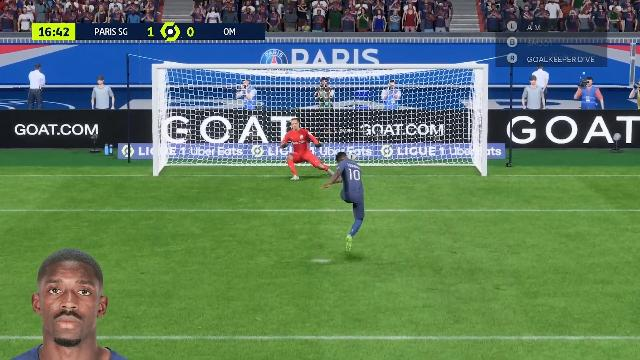goal-bottom-left: (160, 126, 262, 178)
goal-bottom-right: (369, 127, 479, 178)
goal-middle-down: (264, 127, 368, 179)
goal-middle-up: (264, 72, 368, 127)
goal-top-left: (160, 70, 262, 126)
goal-top-right: (369, 70, 479, 126)
goalkeeper: (278, 114, 328, 180)
player: (326, 160, 376, 266)
